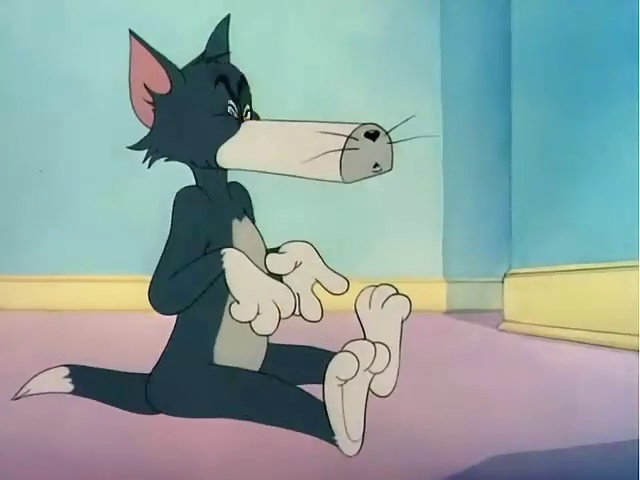tom: (37, 37, 479, 450)
